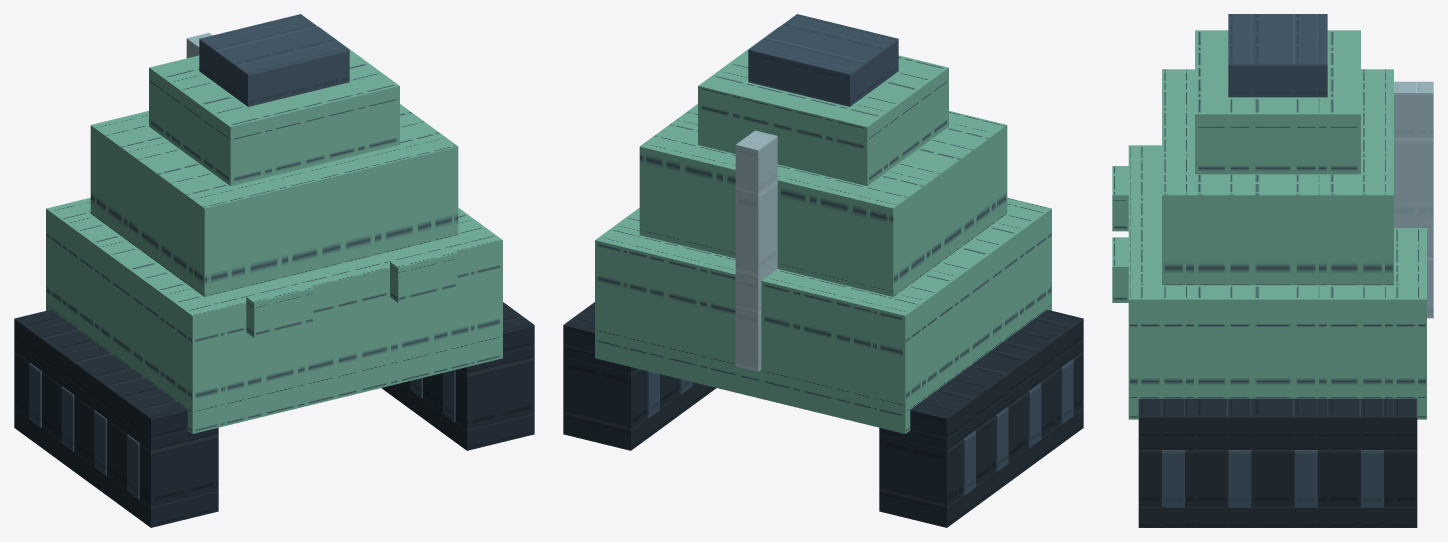
File: sc_robot_beetle.obj
3 renders of one model, left to right at view 1: azimuth 30°, elevation 25°; view 2: azimuth 150°, elevation 25°; view 3: azimuth 270°, elevation 25°, orthographic.
Size of the model in its own units: 13.7 by 13.1 by 9.7.
1 material, 1 textured.
